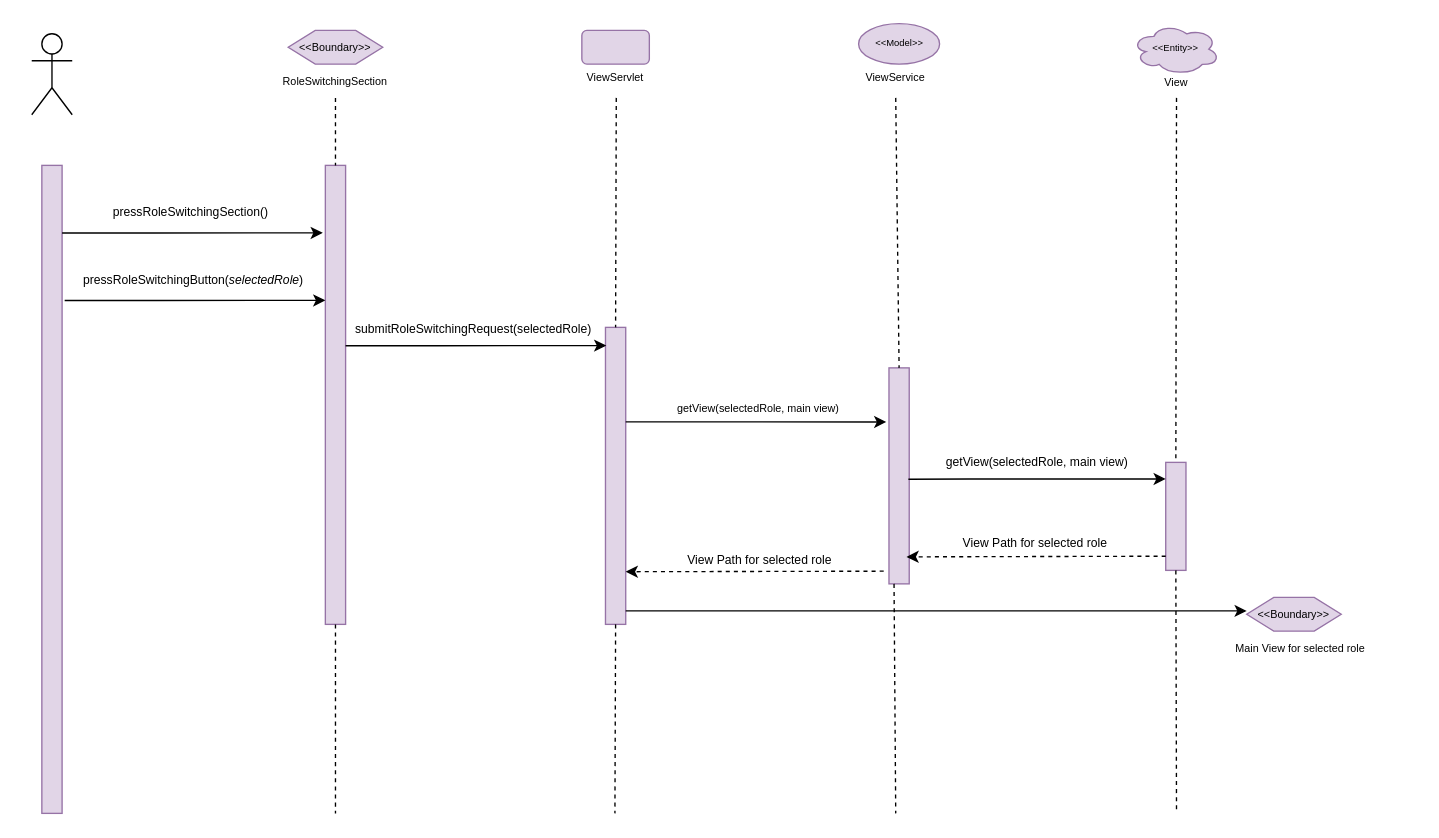
Image size: 1439x838. Some labels were removed from this diagram. The box of each missing label's shape, as (x1, y1, x2, y2) in pixels:
<<Control>>: (580, 29, 649, 64)
Thomas: (30, 32, 72, 115)
